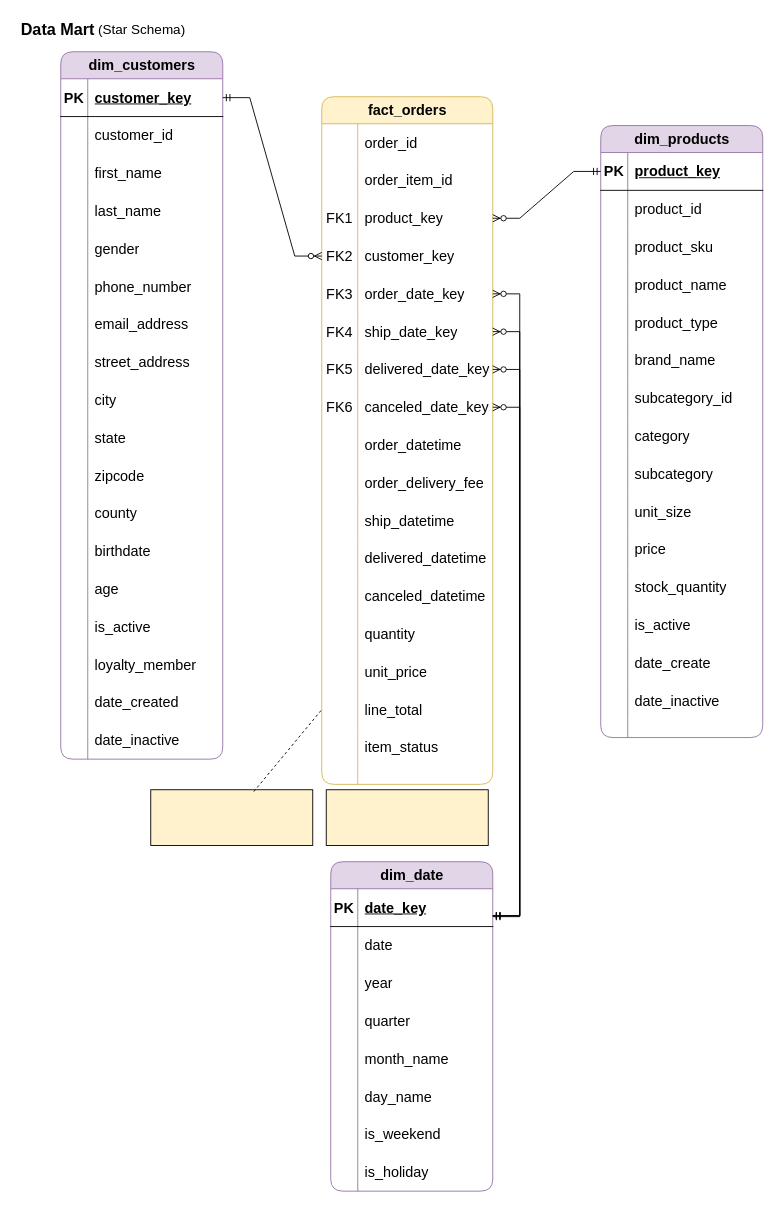
The diagram is 779 pixels wide and 1207 high, and some of its shapes have lost their labels. Here are the shapes that lost their labels. From the top down, the centre of each, then its label:
At pixel 231 817: "Line Total quantity * unit_price".
At pixel 406 817: "Order Total Amount SUM(line_total) + delivery_fee".
